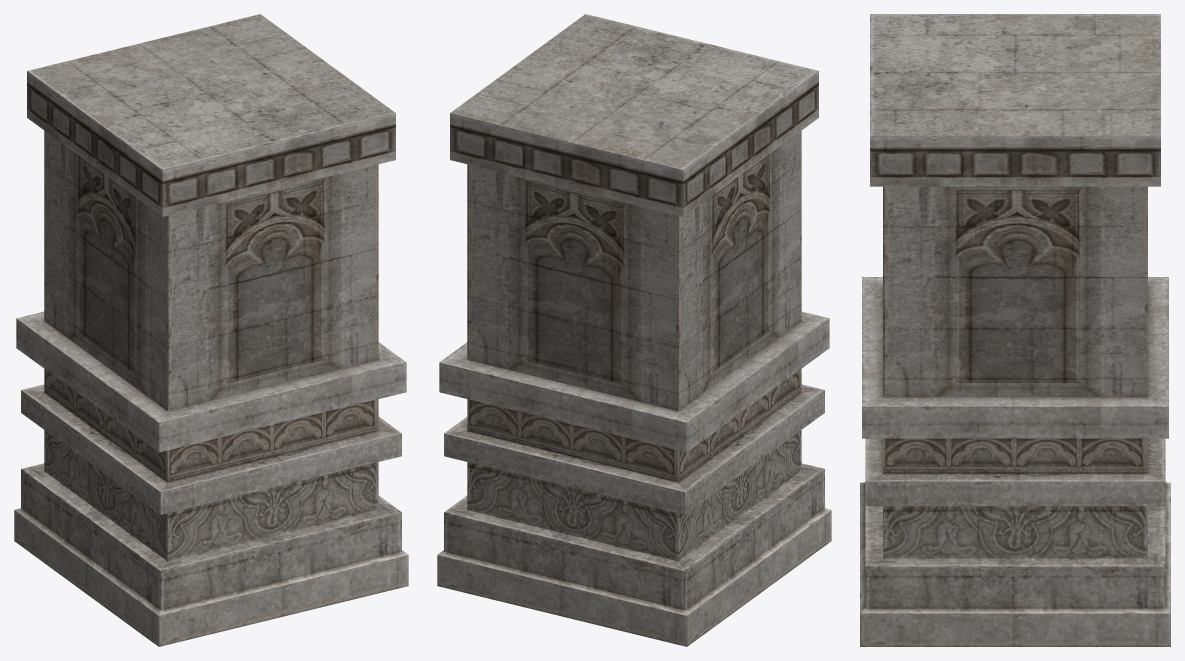
File: bg_lut_lucastle_churchtower10b_sm_ksh.FBX
3 views of the same model, side by side, from view 1: azimuth 30°, elevation 25°; view 2: azimuth 150°, elevation 25°; view 3: azimuth 270°, elevation 25° (orthographic). The views are drawn at different scales.
Visible parts, largest first — view 1: bg_lut_lucastle_churchtower10b_sm_ksh; view 2: bg_lut_lucastle_churchtower10b_sm_ksh; view 3: bg_lut_lucastle_churchtower10b_sm_ksh.
Part boxes in pixels (x1,y1,x2,y2): bg_lut_lucastle_churchtower10b_sm_ksh: (14,14,408,646); bg_lut_lucastle_churchtower10b_sm_ksh: (437,14,831,646); bg_lut_lucastle_churchtower10b_sm_ksh: (860,14,1170,646).
Size of the model in its own units: 157 by 283 by 158.
